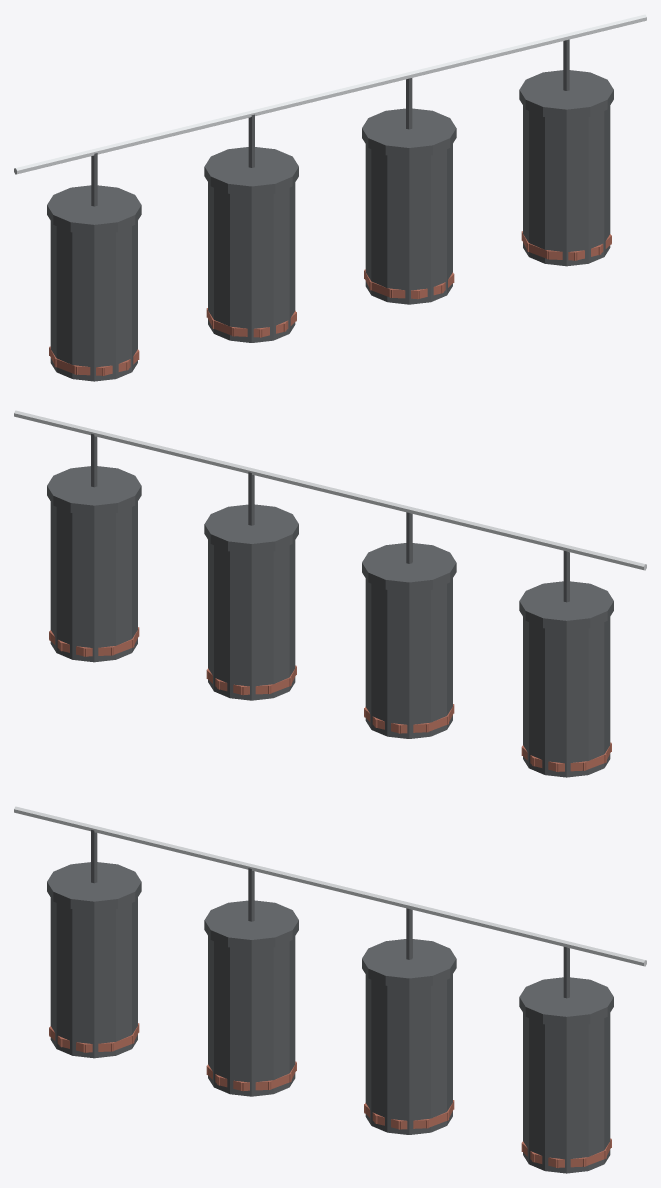
Rendered from fish-market-and-trawler-quay-fish-market-and-trawler-q-49c351b4__37265.glb.
3 views of the same model, one above another, from view 1: azimuth 30°, elevation 25°; view 2: azimuth 150°, elevation 25°; view 3: azimuth 330°, elevation 25° (orthographic).
Parts seen in each view (by area): view 1: fish-market-and-trawler-quay-hull-fender-run; view 2: fish-market-and-trawler-quay-hull-fender-run; view 3: fish-market-and-trawler-quay-hull-fender-run.
Boxes of the visible parts, x1,y1,x2,y2 form: fish-market-and-trawler-quay-hull-fender-run: [14, 14, 646, 381]; fish-market-and-trawler-quay-hull-fender-run: [14, 410, 646, 777]; fish-market-and-trawler-quay-hull-fender-run: [14, 806, 646, 1173].
Bounding box in the file's own units: 4 × 1.3 × 0.5199.
